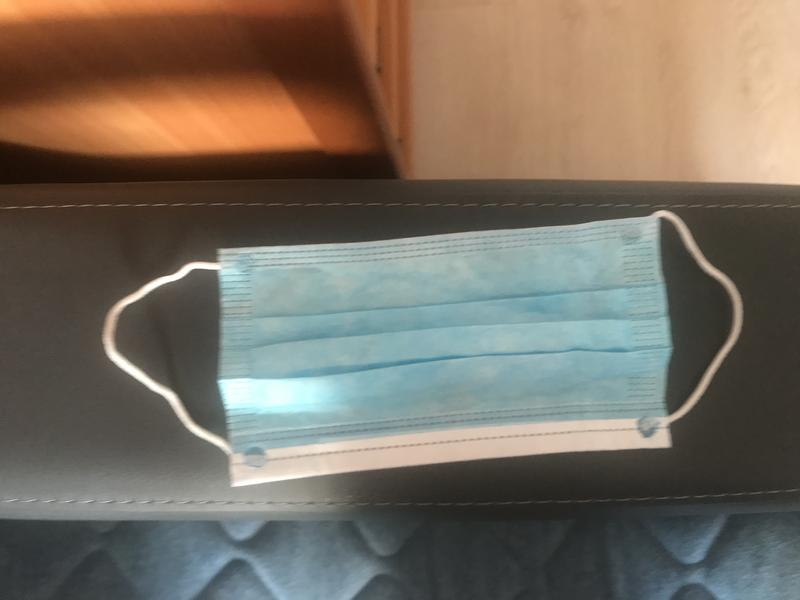medical_mask: (102, 209, 745, 493)
